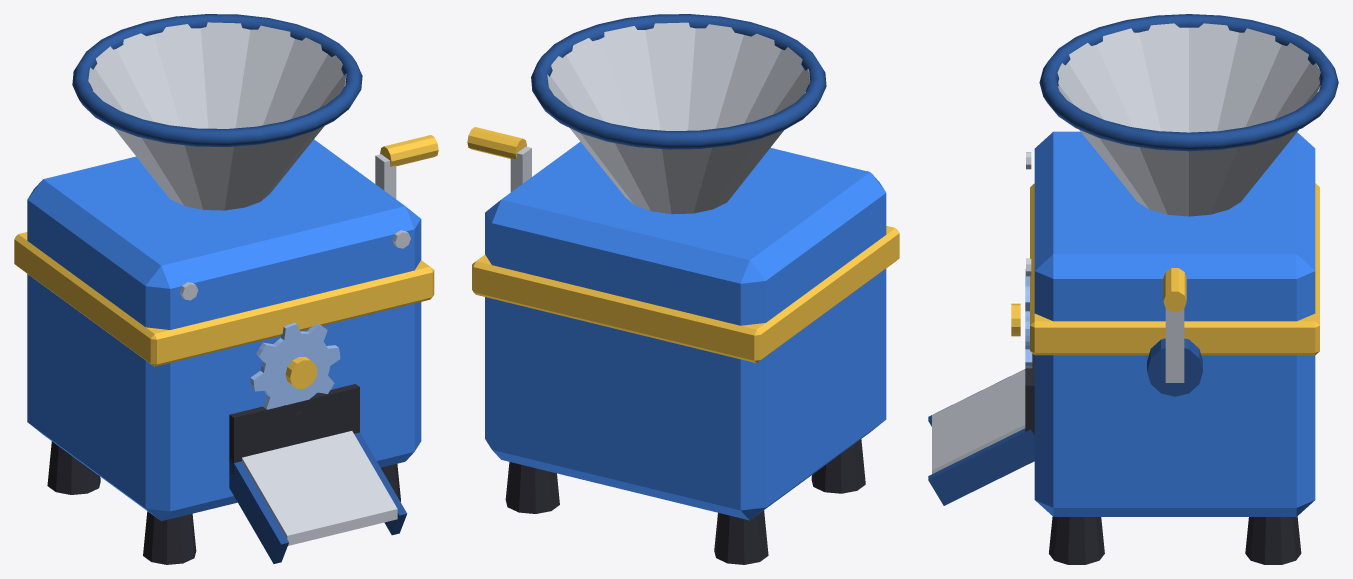
Rendered from Grinder_Blue.glb.
The picture shows the model from 3 angles, left to right: view 1: azimuth 30°, elevation 25°; view 2: azimuth 150°, elevation 25°; view 3: azimuth 270°, elevation 25°; orthographic projection. The views are drawn at different scales.
Visible parts, largest first — view 1: Grinder_Blue_Body, Hopper_Funnel, Grinder_Blue_Stripe, Chute_Slide, Hopper_Rim, Chute_Mouth, Grinder_Blue_Gear, Chute_SideL, Grinder_Blue_Foot-1-1, Grinder_Blue_Foot-11, Crank_Handle, Chute_SideR (+2 smaller); view 2: Grinder_Blue_Body, Hopper_Funnel, Grinder_Blue_Stripe, Hopper_Rim, Grinder_Blue_Foot-11, Grinder_Blue_Foot11, Grinder_Blue_Foot-1-1, Crank_Handle, Crank_Arm; view 3: Grinder_Blue_Body, Hopper_Funnel, Grinder_Blue_Stripe, Hopper_Rim, Chute_Slide, Chute_SideR, Grinder_Blue_Foot1-1, Grinder_Blue_Foot11, Crank_Hub, Crank_Arm, Crank_Handle, Chute_Mouth (+1 smaller).
Boxes of the visible parts, x1=… form: Grinder_Blue_Body: x1=27, y1=139, x2=421, y2=521; Hopper_Funnel: x1=88, y1=22, x2=346, y2=210; Grinder_Blue_Stripe: x1=14, y1=232, x2=434, y2=366; Chute_Slide: x1=242, y1=431, x2=397, y2=545; Hopper_Rim: x1=72, y1=14, x2=362, y2=146; Chute_Mouth: x1=229, y1=384, x2=359, y2=474; Grinder_Blue_Gear: x1=250, y1=322, x2=340, y2=409; Chute_SideL: x1=229, y1=459, x2=288, y2=563; Grinder_Blue_Foot-1-1: x1=143, y1=511, x2=196, y2=564; Grinder_Blue_Foot-11: x1=47, y1=441, x2=100, y2=494; Crank_Handle: x1=380, y1=135, x2=438, y2=166; Chute_SideR: x1=354, y1=432, x2=407, y2=535; Grinder_Blue_Body: x1=485, y1=141, x2=886, y2=520; Hopper_Funnel: x1=547, y1=22, x2=810, y2=214; Grinder_Blue_Stripe: x1=472, y1=226, x2=899, y2=363; Hopper_Rim: x1=531, y1=14, x2=826, y2=149; Grinder_Blue_Foot-11: x1=714, y1=510, x2=768, y2=564; Grinder_Blue_Foot11: x1=505, y1=462, x2=559, y2=513; Grinder_Blue_Foot-1-1: x1=811, y1=439, x2=865, y2=493; Crank_Handle: x1=467, y1=127, x2=526, y2=159; Crank_Arm: x1=510, y1=146, x2=531, y2=192; Grinder_Blue_Body: x1=1034, y1=131, x2=1315, y2=516; Hopper_Funnel: x1=1057, y1=23, x2=1320, y2=216; Grinder_Blue_Stripe: x1=1030, y1=183, x2=1319, y2=355; Hopper_Rim: x1=1039, y1=14, x2=1338, y2=151; Chute_Slide: x1=932, y1=369, x2=1025, y2=473; Chute_SideR: x1=928, y1=428, x2=1034, y2=505; Grinder_Blue_Foot1-1: x1=1049, y1=516, x2=1104, y2=564; Grinder_Blue_Foot11: x1=1245, y1=516, x2=1301, y2=564; Crank_Hub: x1=1147, y1=338, x2=1202, y2=396; Crank_Arm: x1=1165, y1=308, x2=1184, y2=382; Crank_Handle: x1=1163, y1=268, x2=1186, y2=311; Chute_Mouth: x1=1025, y1=353, x2=1034, y2=434.
Bounding box in the file's own units: 0.89 × 1.01 × 0.8779.
